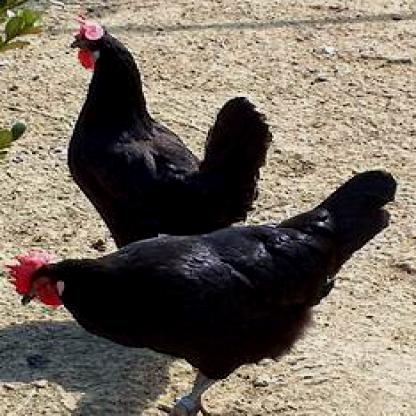chicken: (2, 168, 396, 414), (66, 14, 274, 249)
